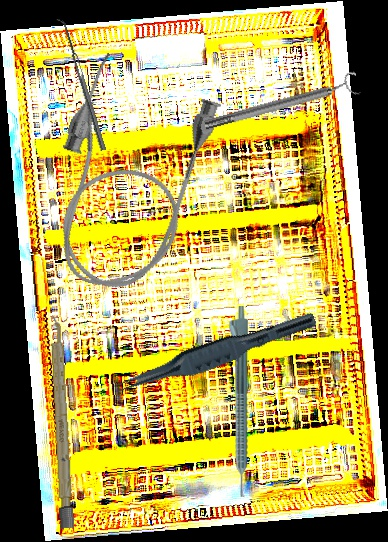Cannula: (27, 48, 226, 305)
Fixation Ring: (201, 69, 362, 138)
Handpiece: (227, 306, 248, 497)
Scalpel Handle: (48, 315, 75, 529)
Spatula Surgical: (54, 16, 107, 153)
Tissue Forceps: (111, 300, 318, 406)
